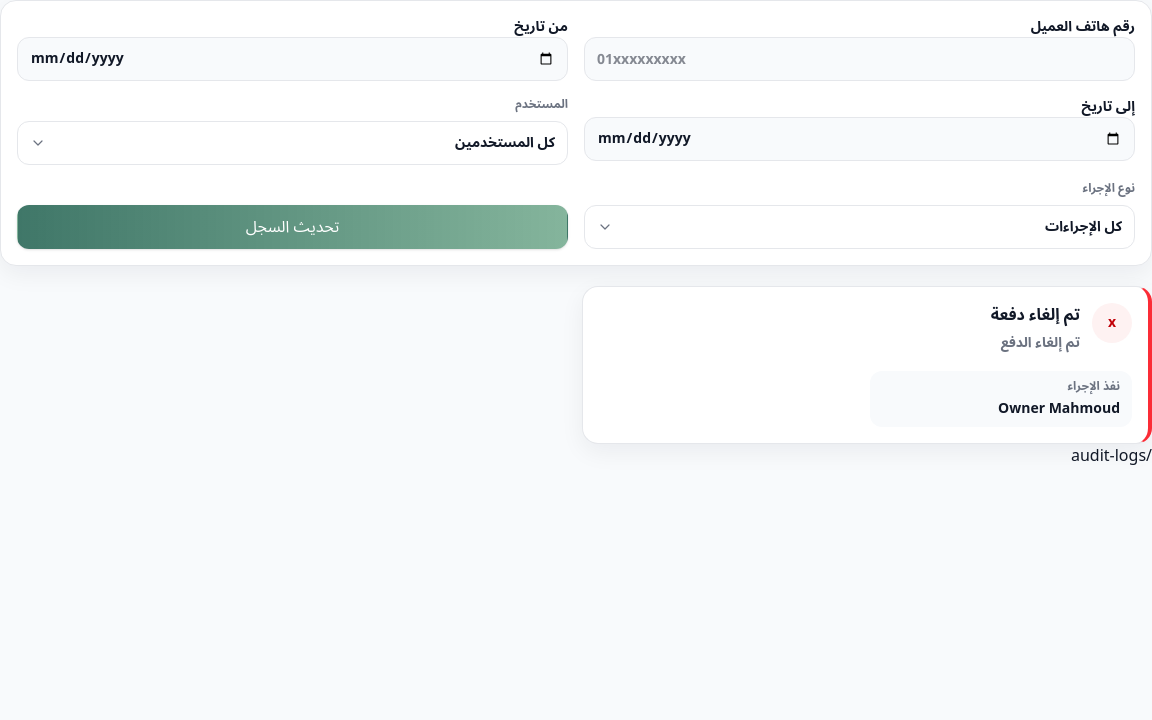
Test case: AuditLogsPage › opens one audit detail request from a deliberate card click
The width and height of the screenshot is (1152, 720).
Click the button with aria-label "عرض تفاصيل النشاط: تم إلغاء دفعة" at [1112, 323], box [599,303,1132,427]
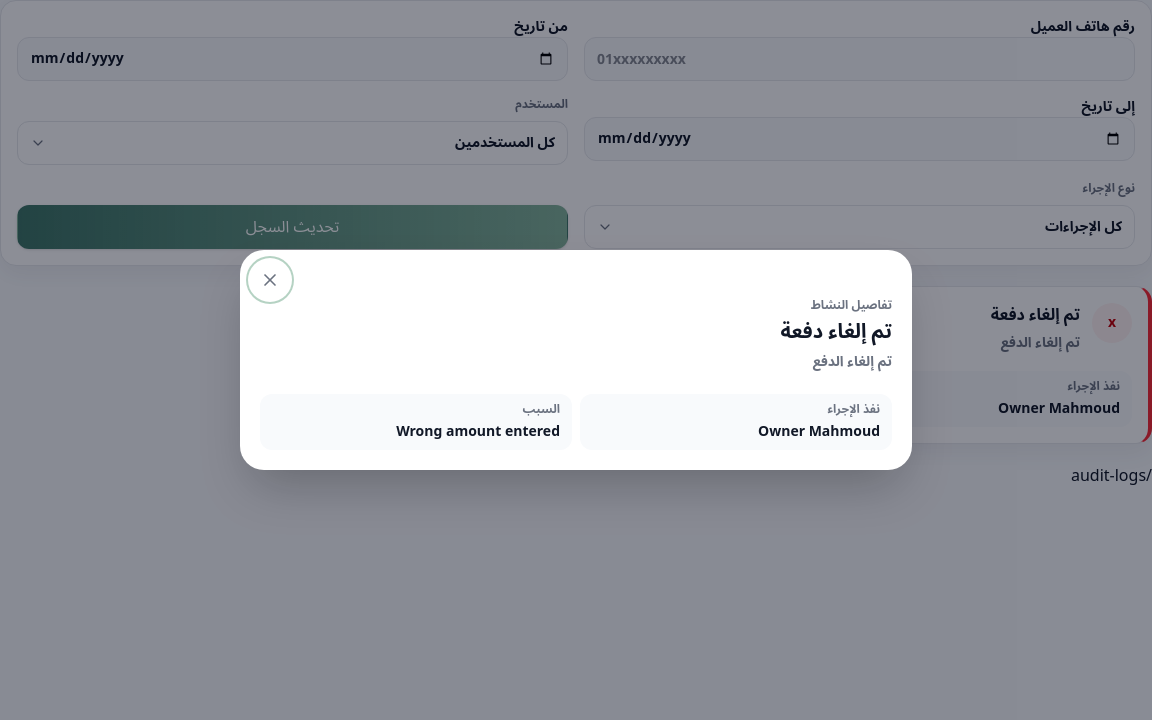
Check: the dialog "تفاصيل النشاط" is shown, box [240,250,912,470]
Check: the text "Wrong amount entered" is shown, box [396,417,560,446]
Check: the text "السبب" is shown, box [523,397,560,422]
